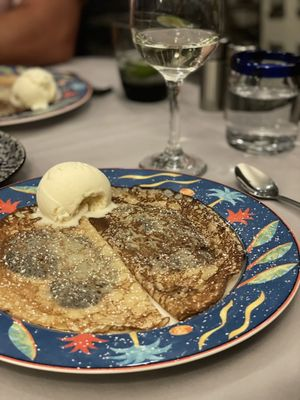pizza: (224, 47, 300, 155)
salad: (234, 163, 300, 212)
